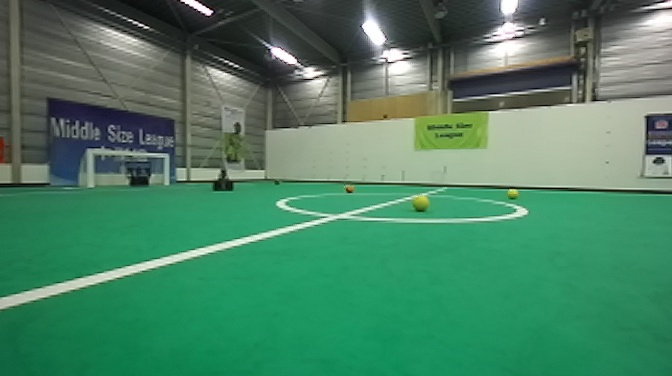ball: (412, 193, 429, 212), (505, 186, 519, 201), (344, 185, 354, 195)
goal: (78, 145, 173, 190)
robot: (122, 158, 155, 186), (208, 161, 236, 192)
